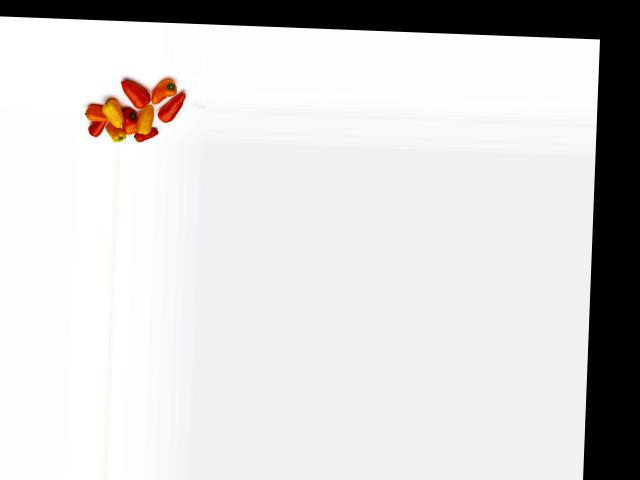bell_pepper: (132, 129, 161, 143)
